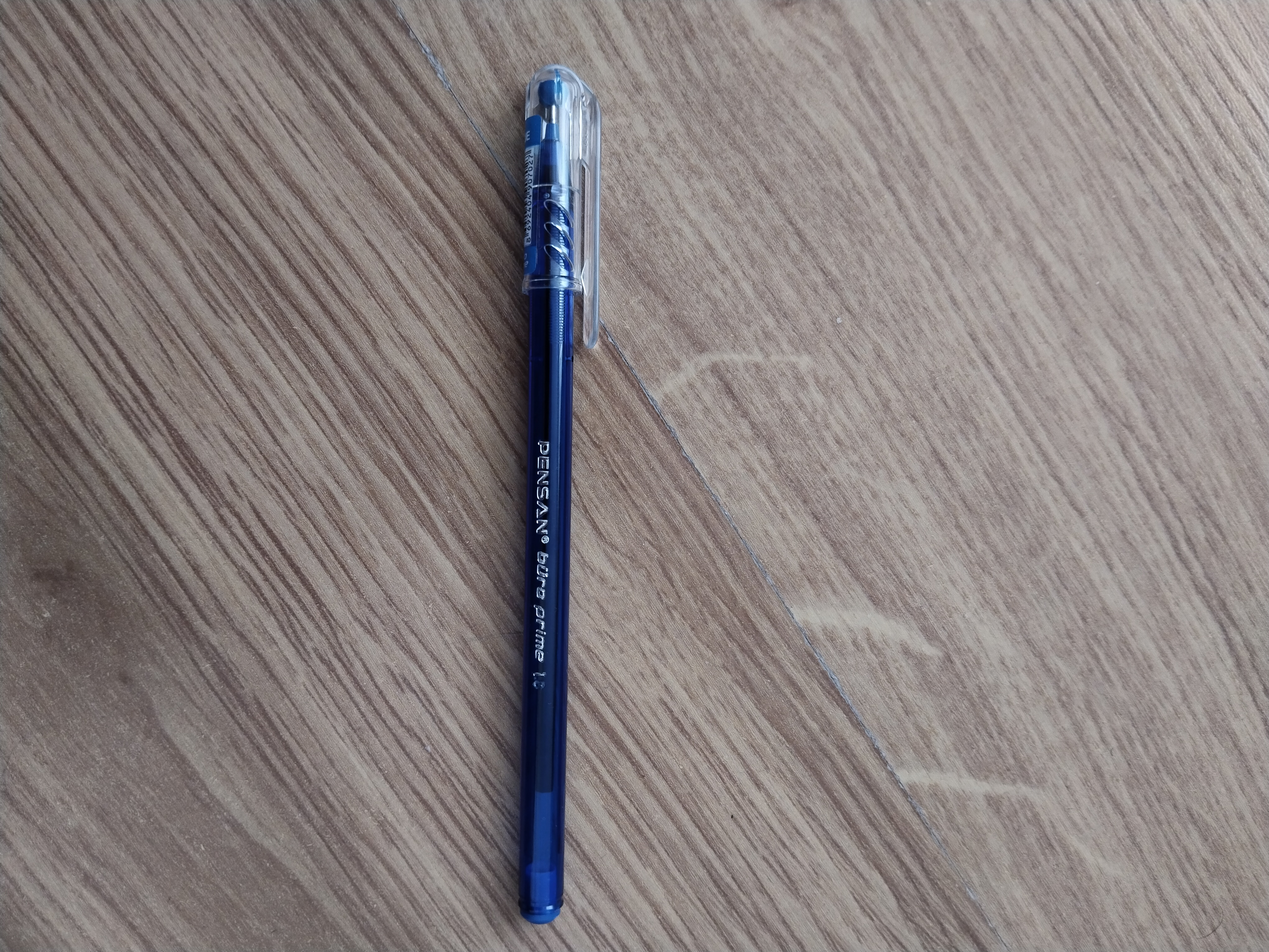pensan_mavi_tukenmez_kalem: (514, 66, 594, 927)
